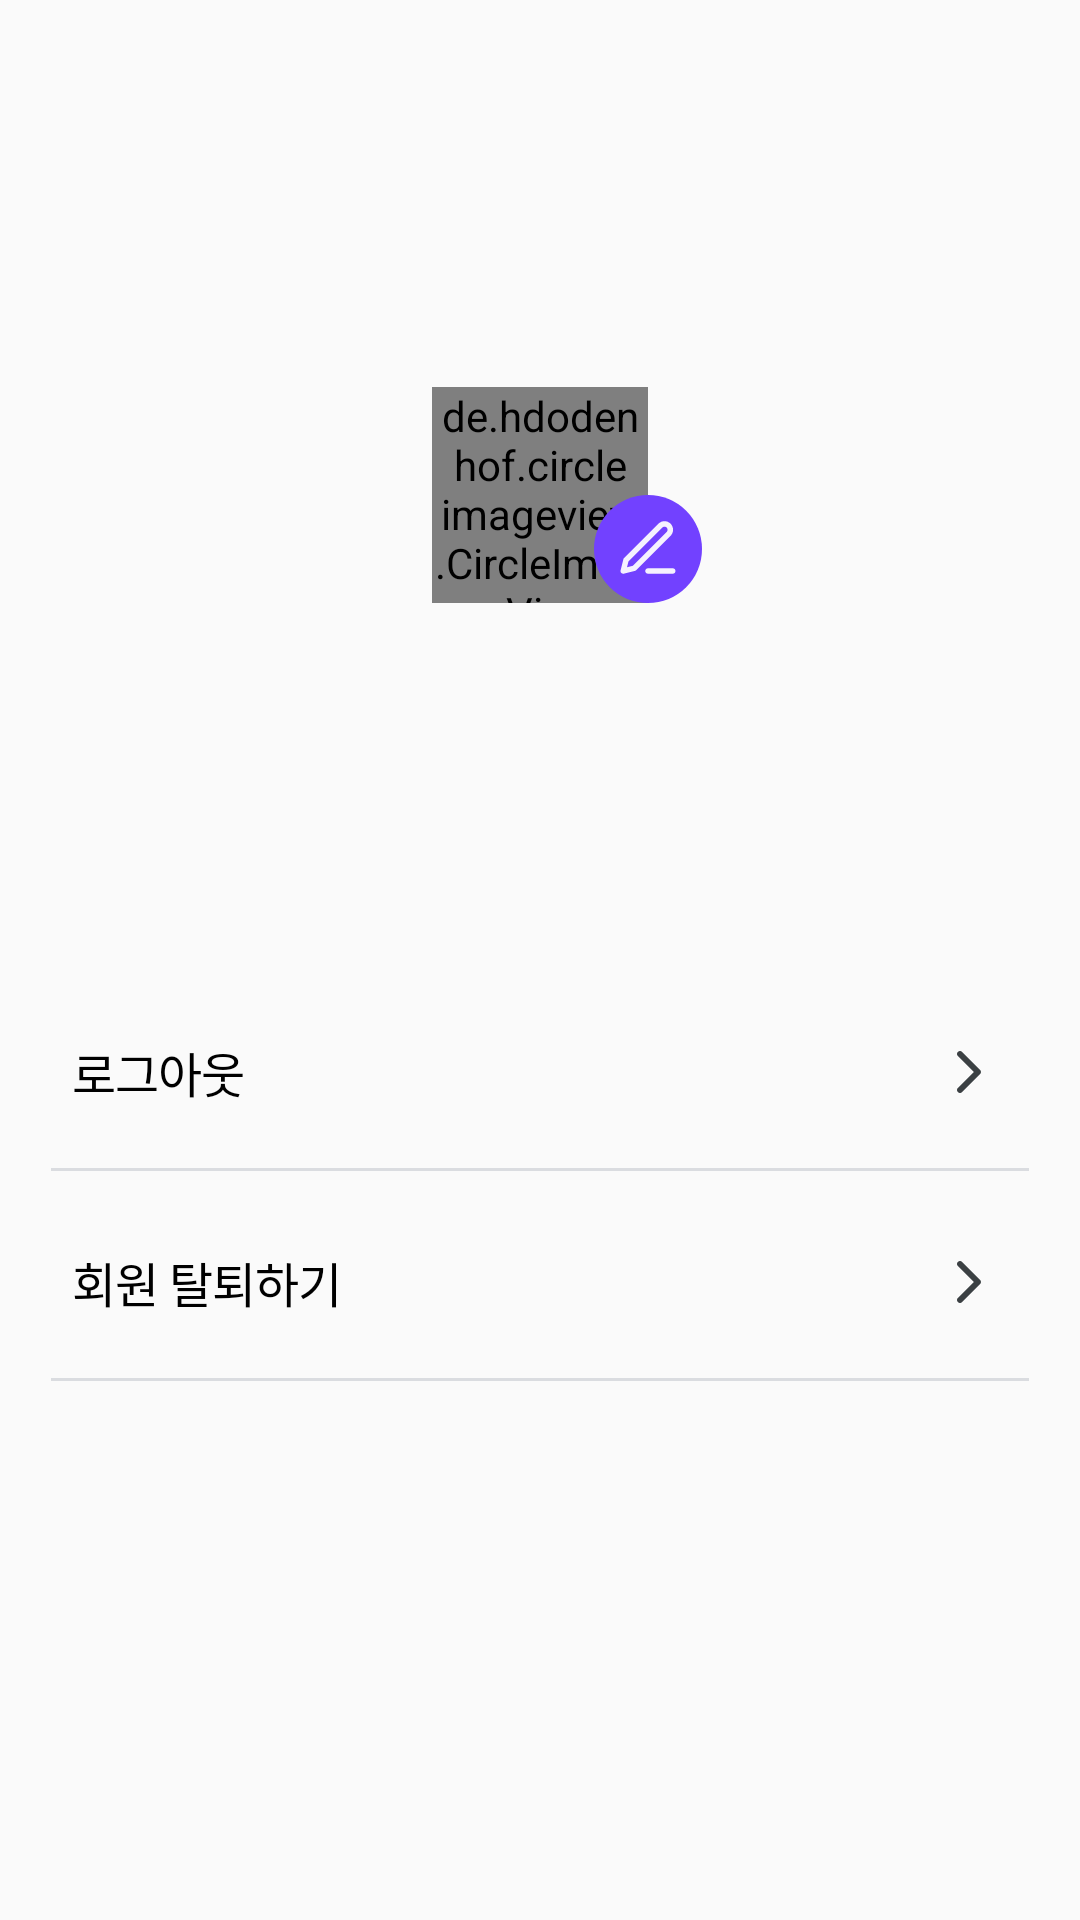

Where to tap for icons on this 1080px×1920px app screen, as [x,y]:
arrow right: [969,1072], [969,1282]
circle edit profile: [648,549]
